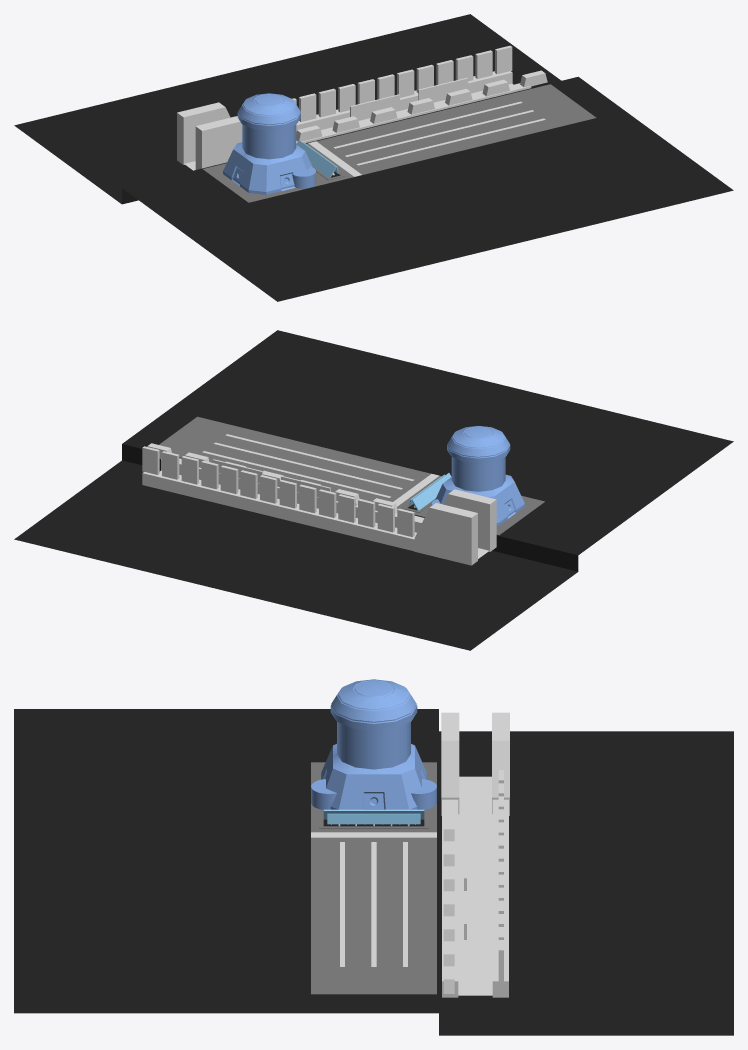
Rendered from Dummy_Field (5).fbx.
3 renders of one model, top to bottom at view 1: azimuth 30°, elevation 25°; view 2: azimuth 150°, elevation 25°; view 3: azimuth 270°, elevation 25°, orthographic. The views are drawn at different scales.
Parts seen in each view (by area): view 1: BackGround, Field_Plane, Object002, Box020, Box021, Box023, Box022, Box008, Box043, Bg_Barricade; view 2: BackGround, Field_Plane, Object002, Box023, Box021, Box020, Box022; view 3: BackGround, Field_Plane, Object002, Plane017, Box023, Box020, Box022, Box021, Bg_Nexus_a, Bg_Barricade001, Object001, Plane016 (+3 smaller).
Boxes of the visible parts, x1=… form: BackGround: x1=14, y1=14, x2=733, y2=301; Field_Plane: x1=203, y1=84, x2=596, y2=202; Object002: x1=223, y1=93, x2=312, y2=194; Box020: x1=195, y1=116, x2=242, y2=169; Box021: x1=177, y1=102, x2=230, y2=164; Box023: x1=296, y1=71, x2=512, y2=131; Box022: x1=296, y1=83, x2=531, y2=143; Box008: x1=350, y1=94, x2=399, y2=117; Box043: x1=418, y1=78, x2=468, y2=100; Bg_Barricade: x1=296, y1=140, x2=336, y2=178; BackGround: x1=14, y1=330, x2=733, y2=650; Field_Plane: x1=159, y1=416, x2=544, y2=535; Object002: x1=435, y1=425, x2=524, y2=525; Box023: x1=142, y1=471, x2=416, y2=551; Box021: x1=414, y1=503, x2=477, y2=565; Box020: x1=443, y1=489, x2=496, y2=551; Box022: x1=161, y1=458, x2=424, y2=532; BackGround: x1=14, y1=709, x2=733, y2=1035; Field_Plane: x1=311, y1=762, x2=436, y2=994; Object002: x1=321, y1=679, x2=426, y2=809; Plane017: x1=458, y1=776, x2=492, y2=995; Box023: x1=492, y1=799, x2=508, y2=997; Box020: x1=441, y1=712, x2=459, y2=815; Box022: x1=442, y1=799, x2=458, y2=997; Box021: x1=492, y1=712, x2=509, y2=815; Bg_Nexus_a: x1=311, y1=779, x2=436, y2=809; Bg_Barricade001: x1=327, y1=813, x2=420, y2=824; Object001: x1=311, y1=815, x2=436, y2=830; Plane016: x1=311, y1=832, x2=436, y2=837.
Size of the model in its own units: 4000 by 780 by 4000.
